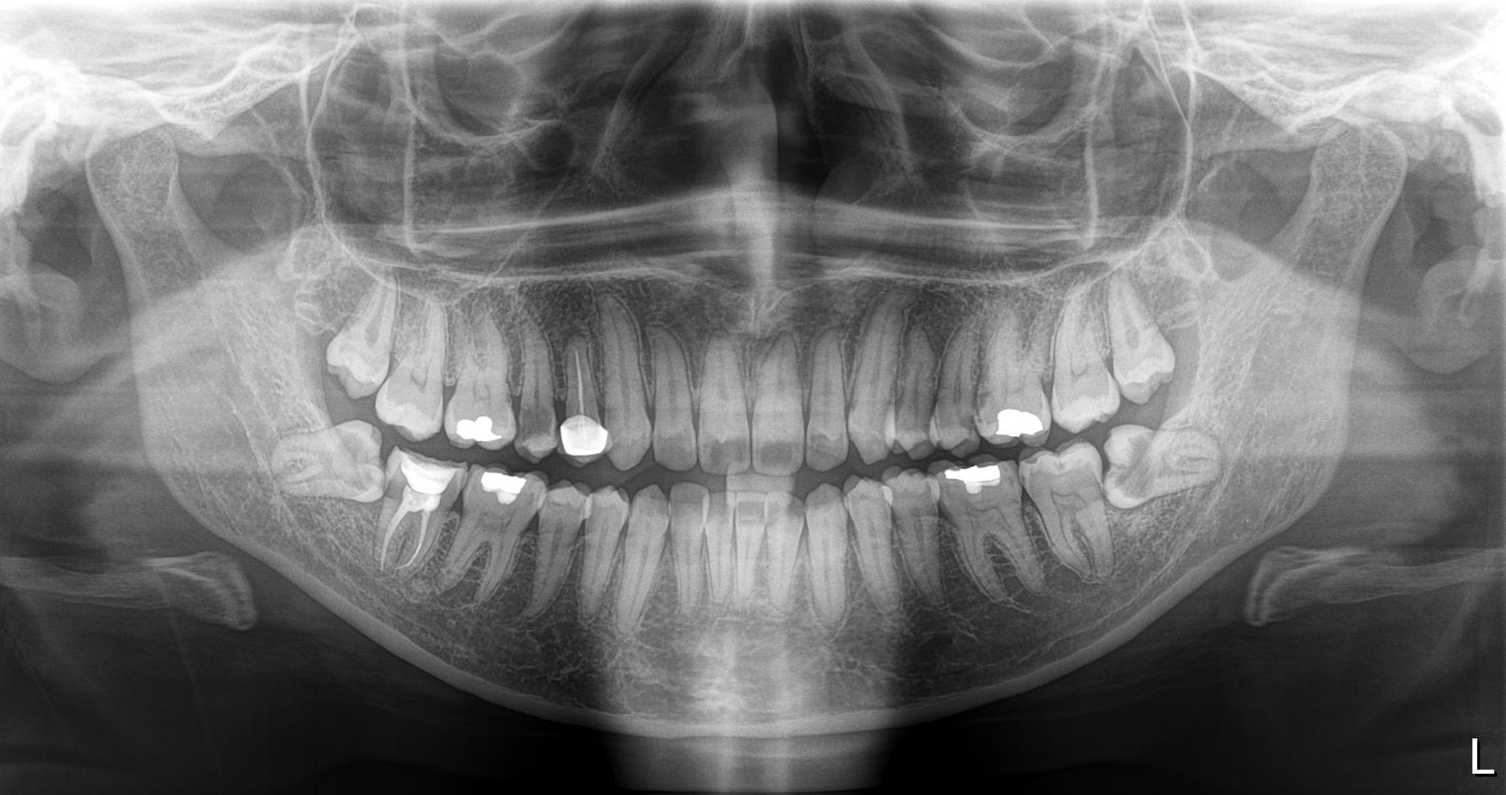Dental Caries: (695, 432, 796, 477), (518, 404, 549, 445)
Endodontically Treated Tooth: (375, 459, 448, 579), (563, 332, 607, 469)
Impacted Third Molar: (264, 419, 381, 506), (1110, 426, 1232, 502)
